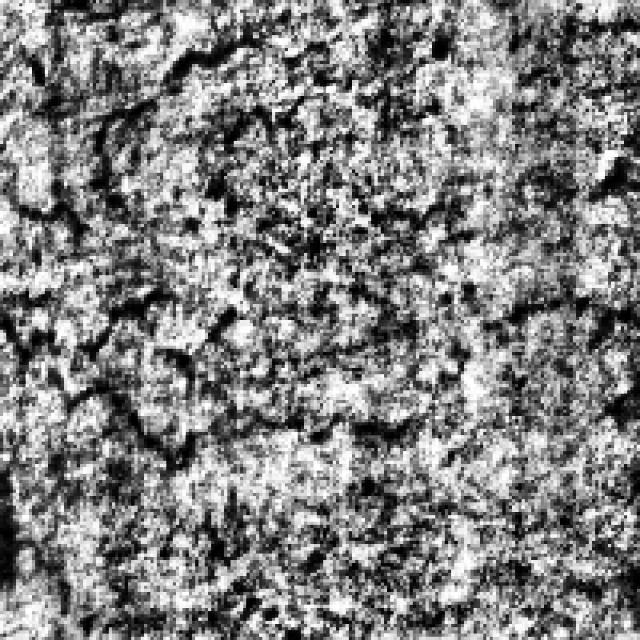Pitted_Surface: (0, 19, 349, 250), (0, 227, 253, 480)
